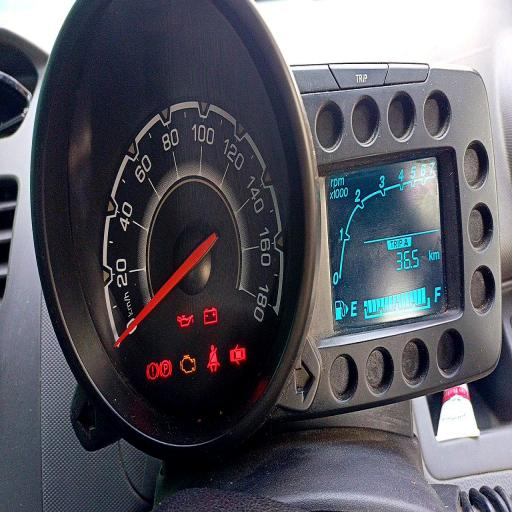belt: (208, 341, 220, 376)
brake_system_fault: (146, 361, 160, 383)
check_engine: (180, 354, 196, 374)
oil: (175, 311, 196, 329)
vehicle_charging: (203, 306, 218, 326)
